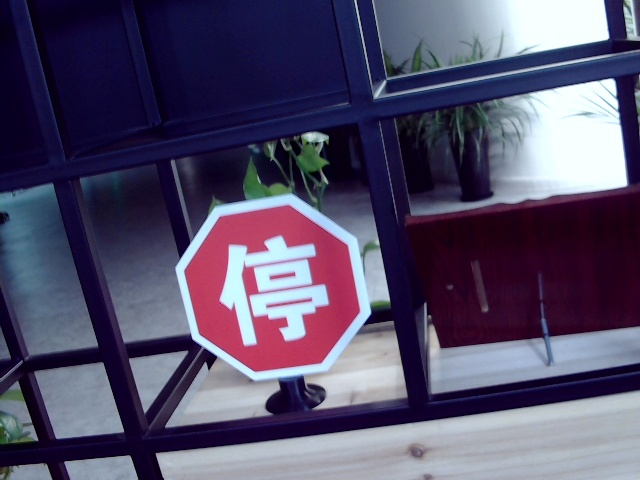stop: (213, 233, 333, 345)
